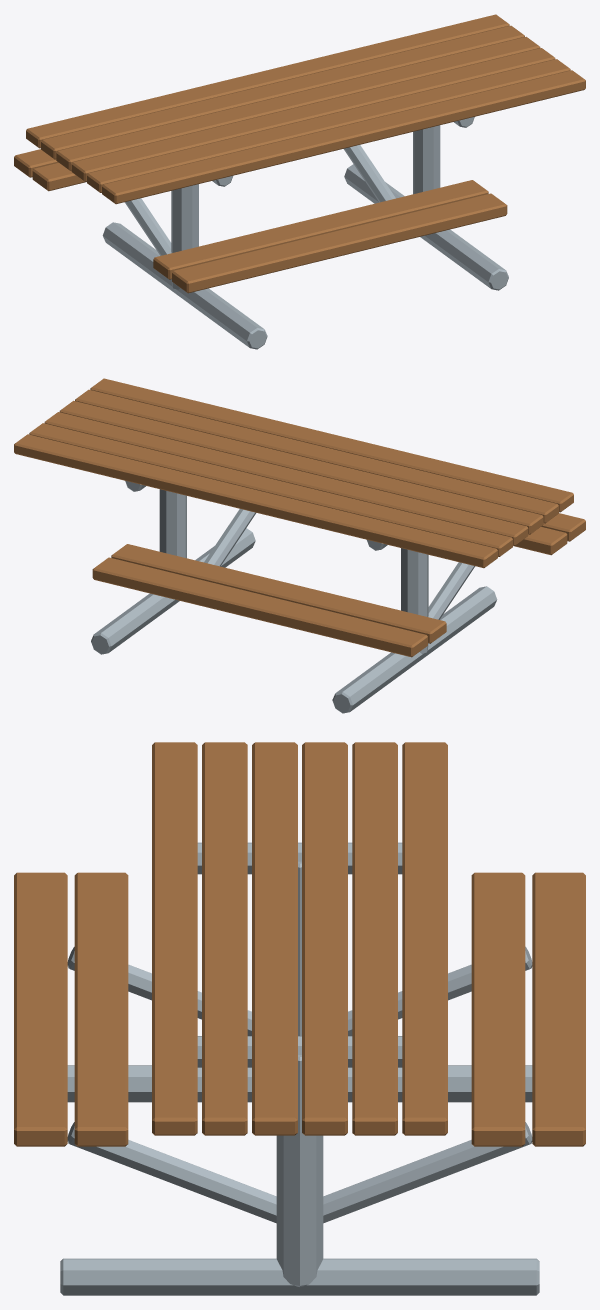
The model's file is b01_accessible_end_picnic_table.glb.
3 views of the same model, one above another, from view 1: azimuth 30°, elevation 25°; view 2: azimuth 150°, elevation 25°; view 3: azimuth 270°, elevation 25° (orthographic). The views are drawn at different scales.
Visible parts, largest first — view 1: b01_accessible_end_picnic_table; view 2: b01_accessible_end_picnic_table; view 3: b01_accessible_end_picnic_table.
Part boxes in pixels (x1,y1,x2,y2): b01_accessible_end_picnic_table: (14,14,585,349); b01_accessible_end_picnic_table: (14,378,585,713); b01_accessible_end_picnic_table: (14,742,585,1295).
Bounding box in the file's own units: 2.5 × 0.8275 × 1.6.
